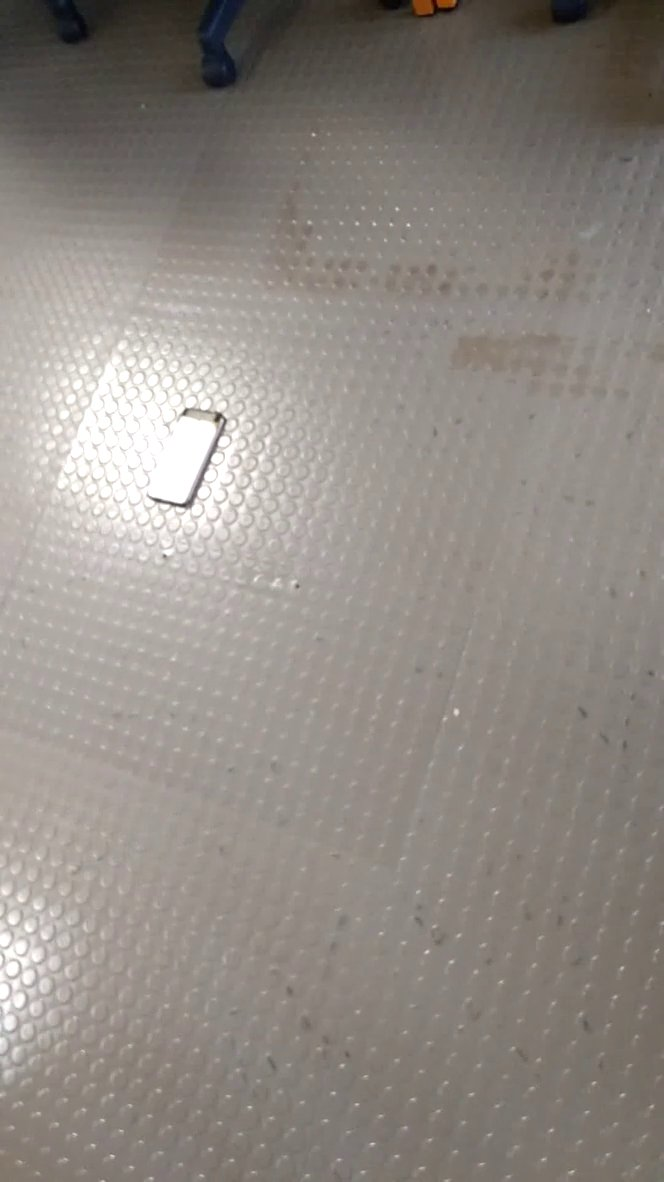phone: (137, 397, 231, 523)
